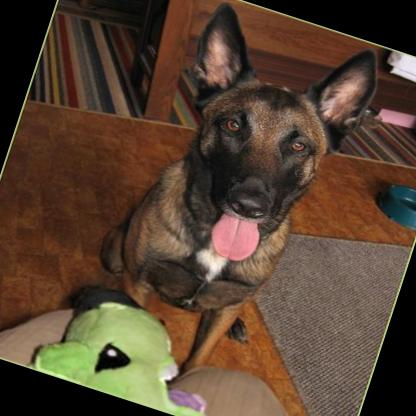malinois: (73, 0, 393, 402)
